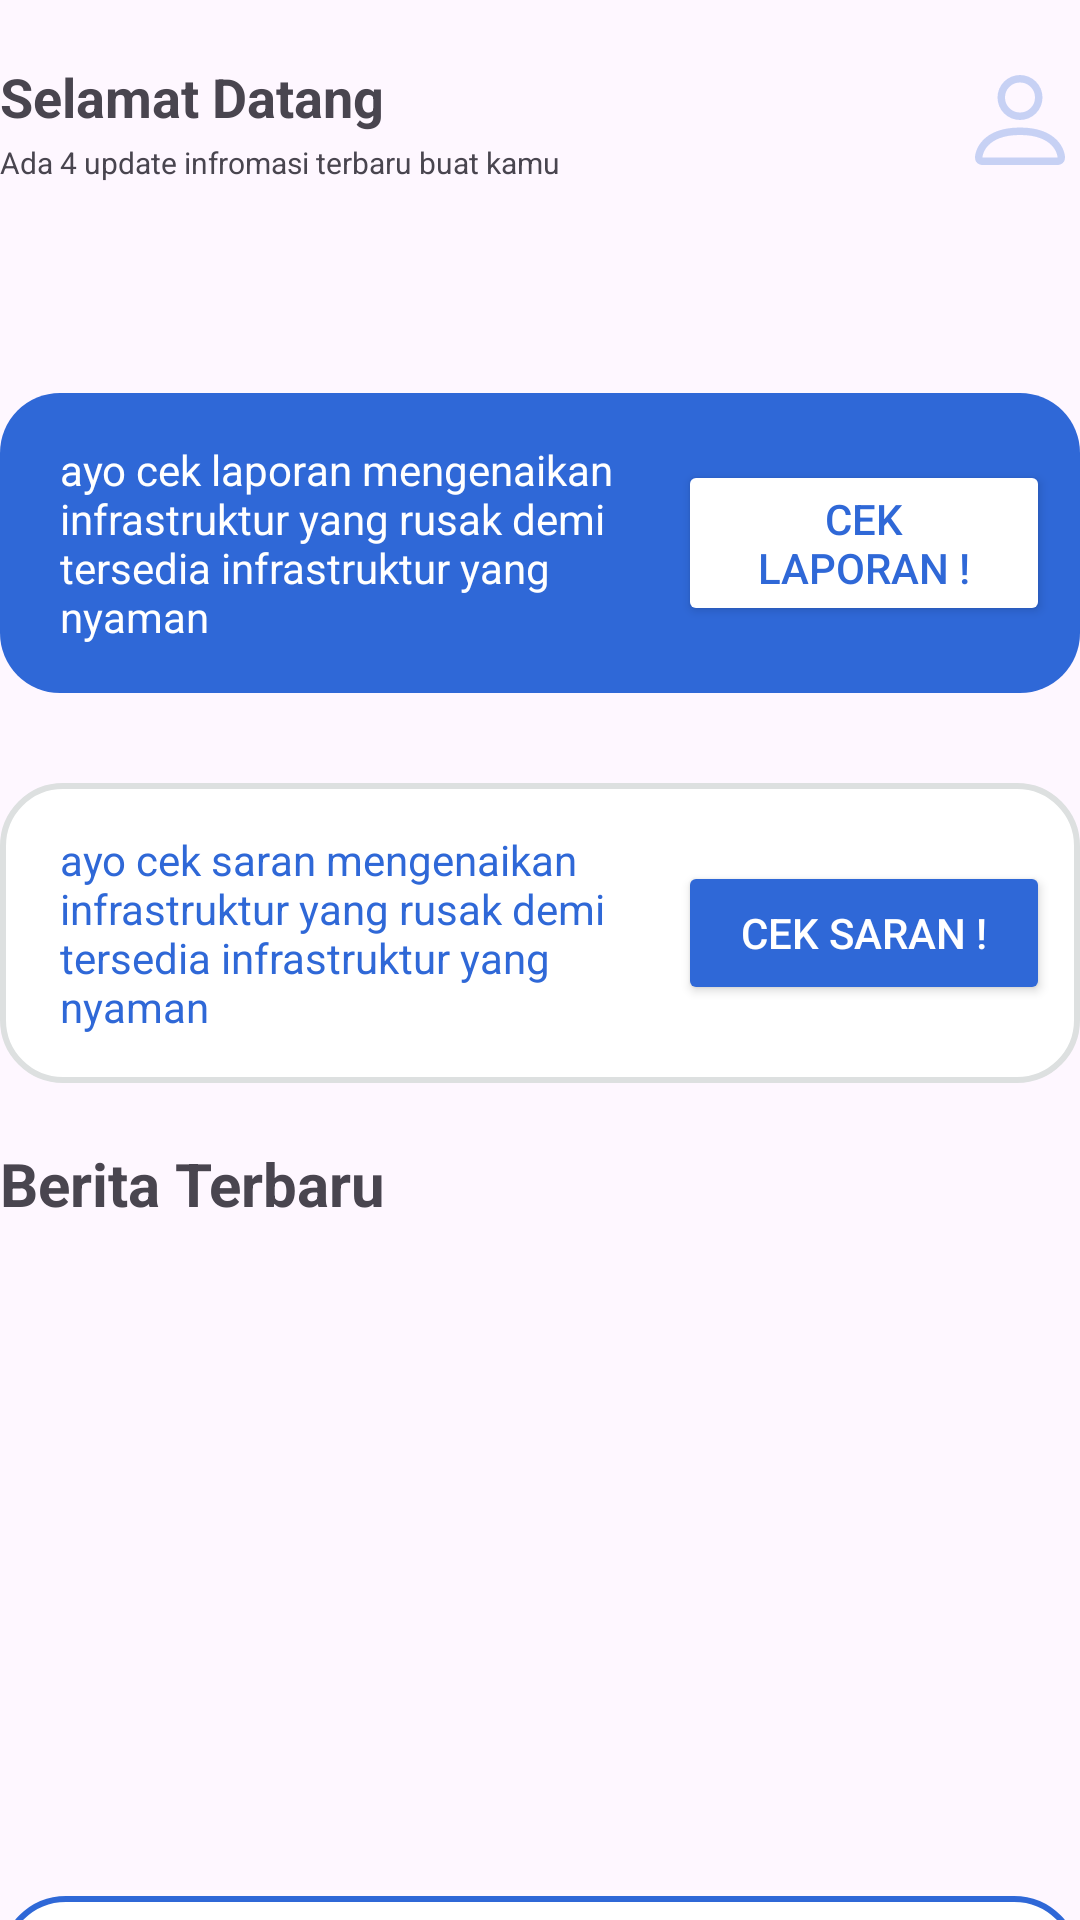

Screen size 1080 x 1920. Icon name, then its box in pixels as (x1, y1, x2, y2):
person: (975, 75, 1065, 165)
